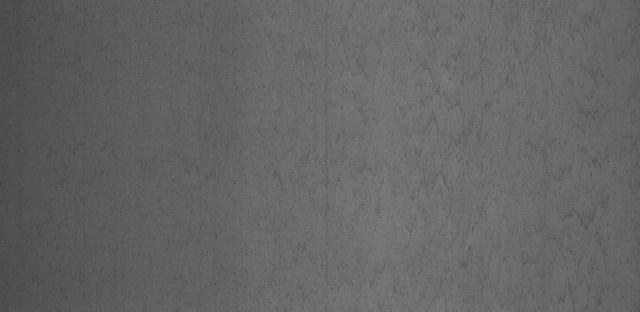silk_spot: (262, 11, 618, 293)
